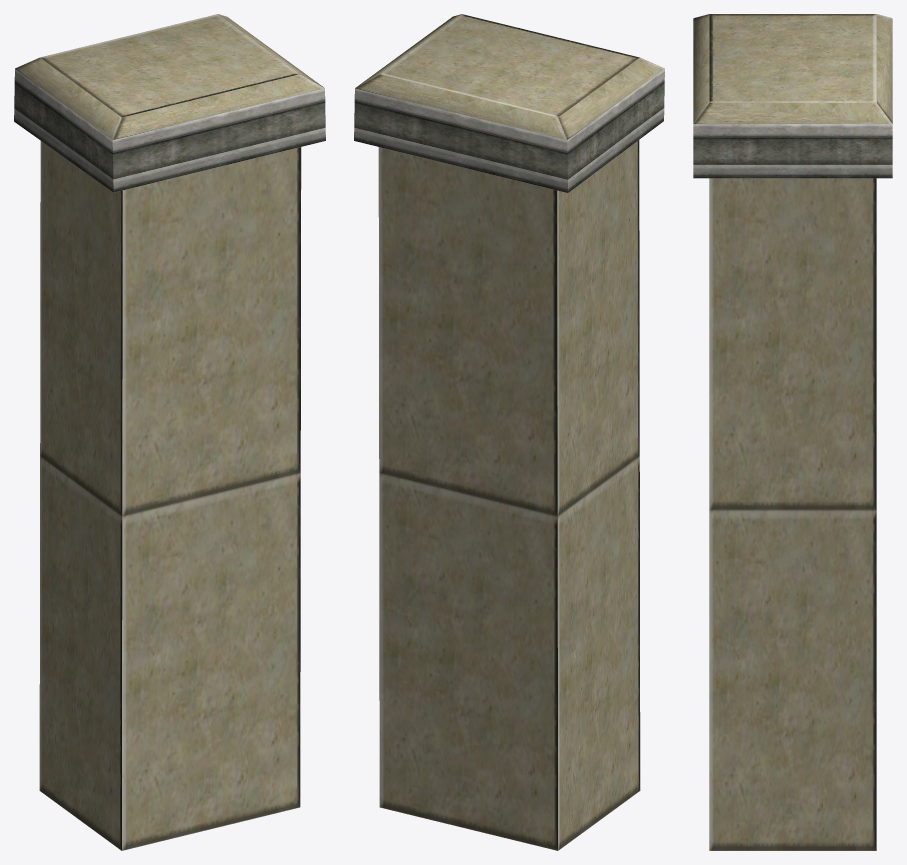
File: MAINHALL_THRONE_ARM02.fbx
3 views of the same model, side by side, from view 1: azimuth 30°, elevation 25°; view 2: azimuth 150°, elevation 25°; view 3: azimuth 270°, elevation 25° (orthographic). The views are drawn at different scales.
Visible parts, largest first — view 1: MAINHALL_THRONE_ARM02; view 2: MAINHALL_THRONE_ARM02; view 3: MAINHALL_THRONE_ARM02.
Boxes of the visible parts, x1=… form: MAINHALL_THRONE_ARM02: x1=14, y1=14, x2=325, y2=850; MAINHALL_THRONE_ARM02: x1=354, y1=14, x2=664, y2=850; MAINHALL_THRONE_ARM02: x1=693, y1=14, x2=892, y2=850.
Bounding box in the file's own units: 14401 × 47120 × 11384.
3 materials, 3 textured.
